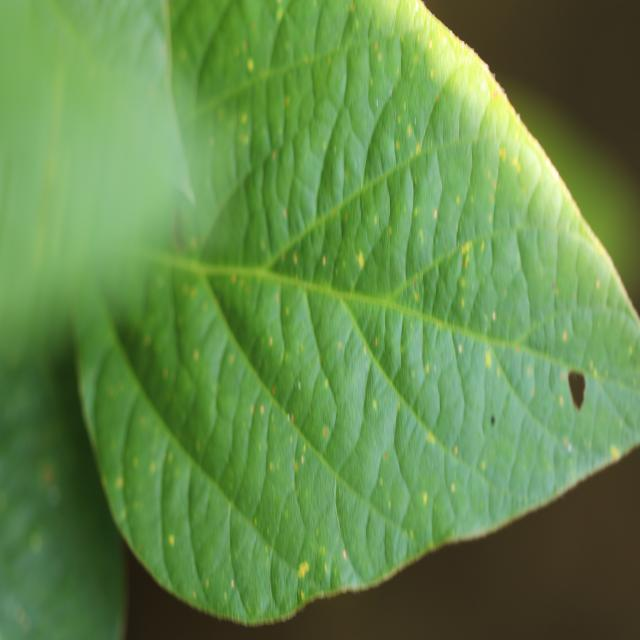Soybean: (0, 0, 640, 640)
downey_mildew: (174, 68, 461, 521), (383, 34, 633, 515), (109, 254, 334, 609), (435, 212, 627, 376), (131, 485, 356, 623), (0, 7, 83, 349), (368, 302, 469, 559), (45, 2, 184, 185), (201, 253, 314, 451), (436, 100, 530, 335), (304, 14, 380, 286), (285, 151, 451, 263), (165, 0, 230, 232), (542, 334, 640, 477), (472, 343, 555, 509), (241, 6, 290, 275), (396, 14, 490, 153), (385, 292, 569, 363), (372, 234, 526, 318), (268, 269, 485, 327), (118, 385, 177, 593), (3, 407, 76, 572), (187, 2, 273, 139), (167, 267, 231, 449), (313, 288, 371, 474), (558, 225, 636, 358), (424, 114, 473, 309), (340, 351, 396, 520), (291, 411, 341, 597), (343, 126, 400, 287), (251, 392, 300, 576), (125, 243, 292, 295), (399, 199, 488, 296), (134, 261, 184, 429), (333, 444, 391, 588), (160, 436, 207, 608), (215, 355, 264, 516), (271, 274, 320, 433), (188, 465, 235, 611), (201, 174, 271, 271), (72, 288, 120, 429), (150, 82, 199, 212), (380, 141, 418, 307), (477, 216, 527, 337), (369, 132, 481, 183), (227, 496, 270, 619), (407, 144, 443, 286), (516, 219, 561, 332), (320, 104, 360, 230), (202, 106, 244, 218), (360, 11, 398, 134), (288, 115, 324, 239), (432, 324, 466, 455), (264, 10, 293, 159), (311, 1, 354, 94), (261, 145, 292, 259), (310, 311, 349, 394), (331, 428, 347, 582), (363, 497, 394, 575), (269, 534, 297, 614), (431, 484, 459, 543)
